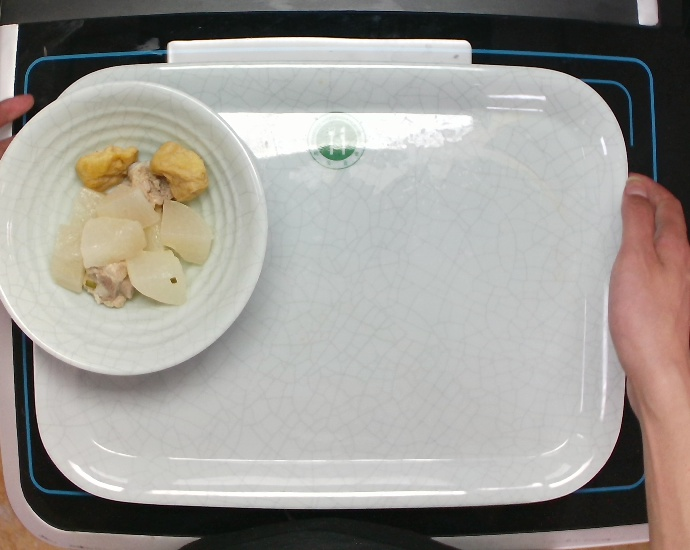JYsf-Xiao_Tang_Wan: (1, 76, 267, 377)
